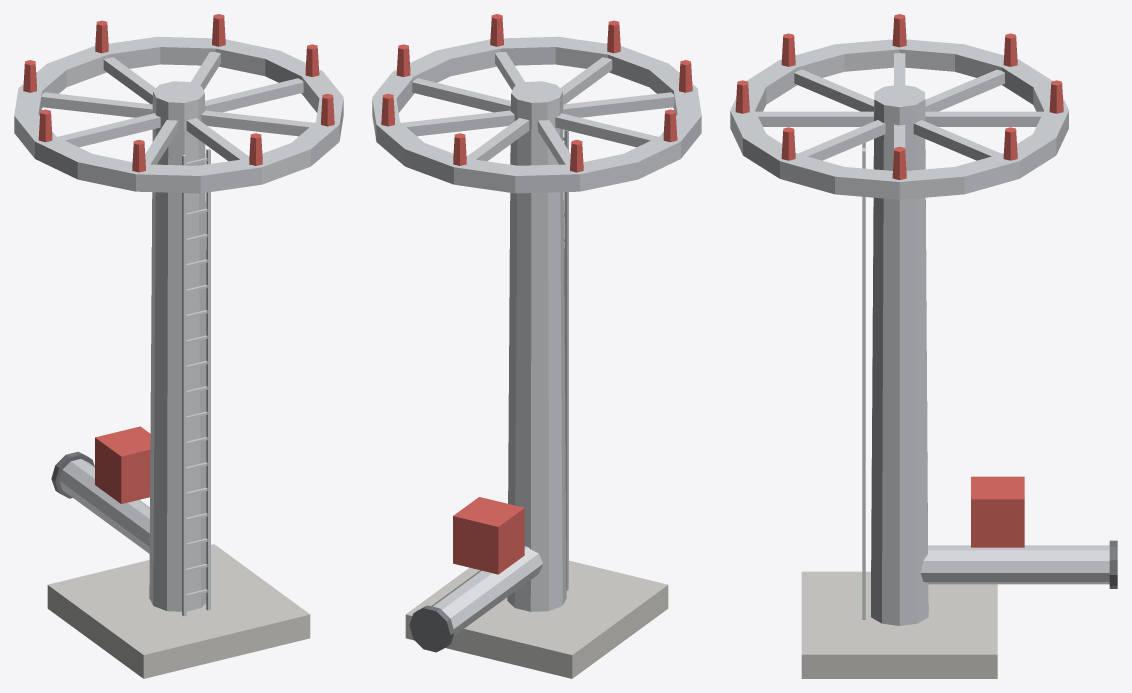
Rendered from rocket-launch-pad-and-gantry-water-deluge-head-1b92f45f__38161.glb.
3 renders of one model, left to right at view 1: azimuth 30°, elevation 25°; view 2: azimuth 150°, elevation 25°; view 3: azimuth 270°, elevation 25°, orthographic.
Visible parts, largest first — view 1: water-deluge-head; view 2: water-deluge-head; view 3: water-deluge-head.
Boxes of the visible parts, x1,y1,x2,y2 form: water-deluge-head: (14,14,343,678); water-deluge-head: (372,14,701,678); water-deluge-head: (730,14,1117,678).
Size of the model in its own units: 3.8 by 6.86 by 4.34.
